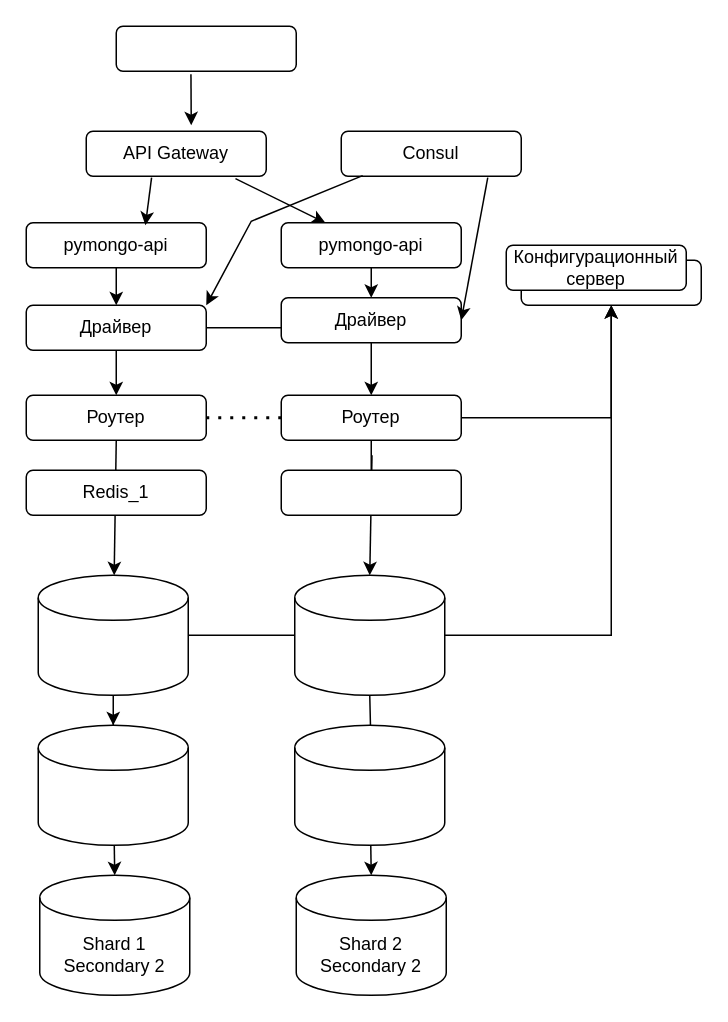
Some shapes in this 728 by 1022 pixel diagram are drawn without their labels. Here are the shapes that lost their labels. From the top down, the box of each, then its label:
(115, 25, 296, 71): Client
(280, 469, 461, 515): Redis_2
(37, 574, 188, 695): Primary shard-1
(293, 574, 445, 695): Primary shard-2
(37, 724, 188, 845): Shard 1 Secondary 1
(293, 724, 445, 845): Shard 2 Secondary 1
